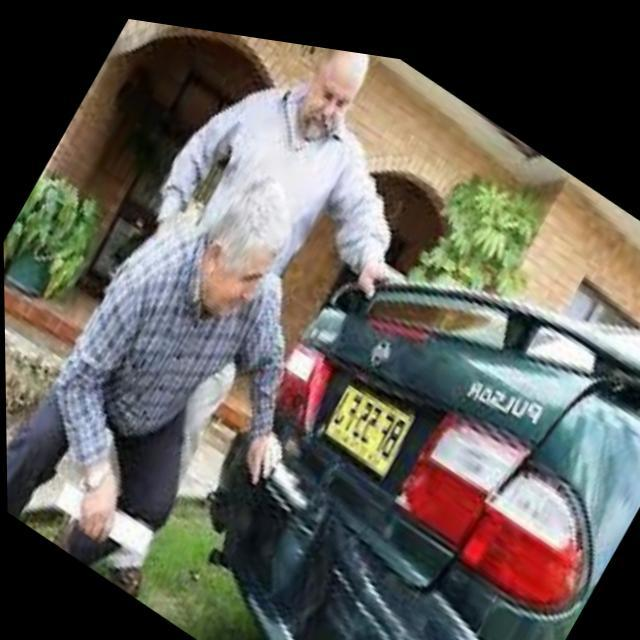dent: (253, 436, 383, 625)
